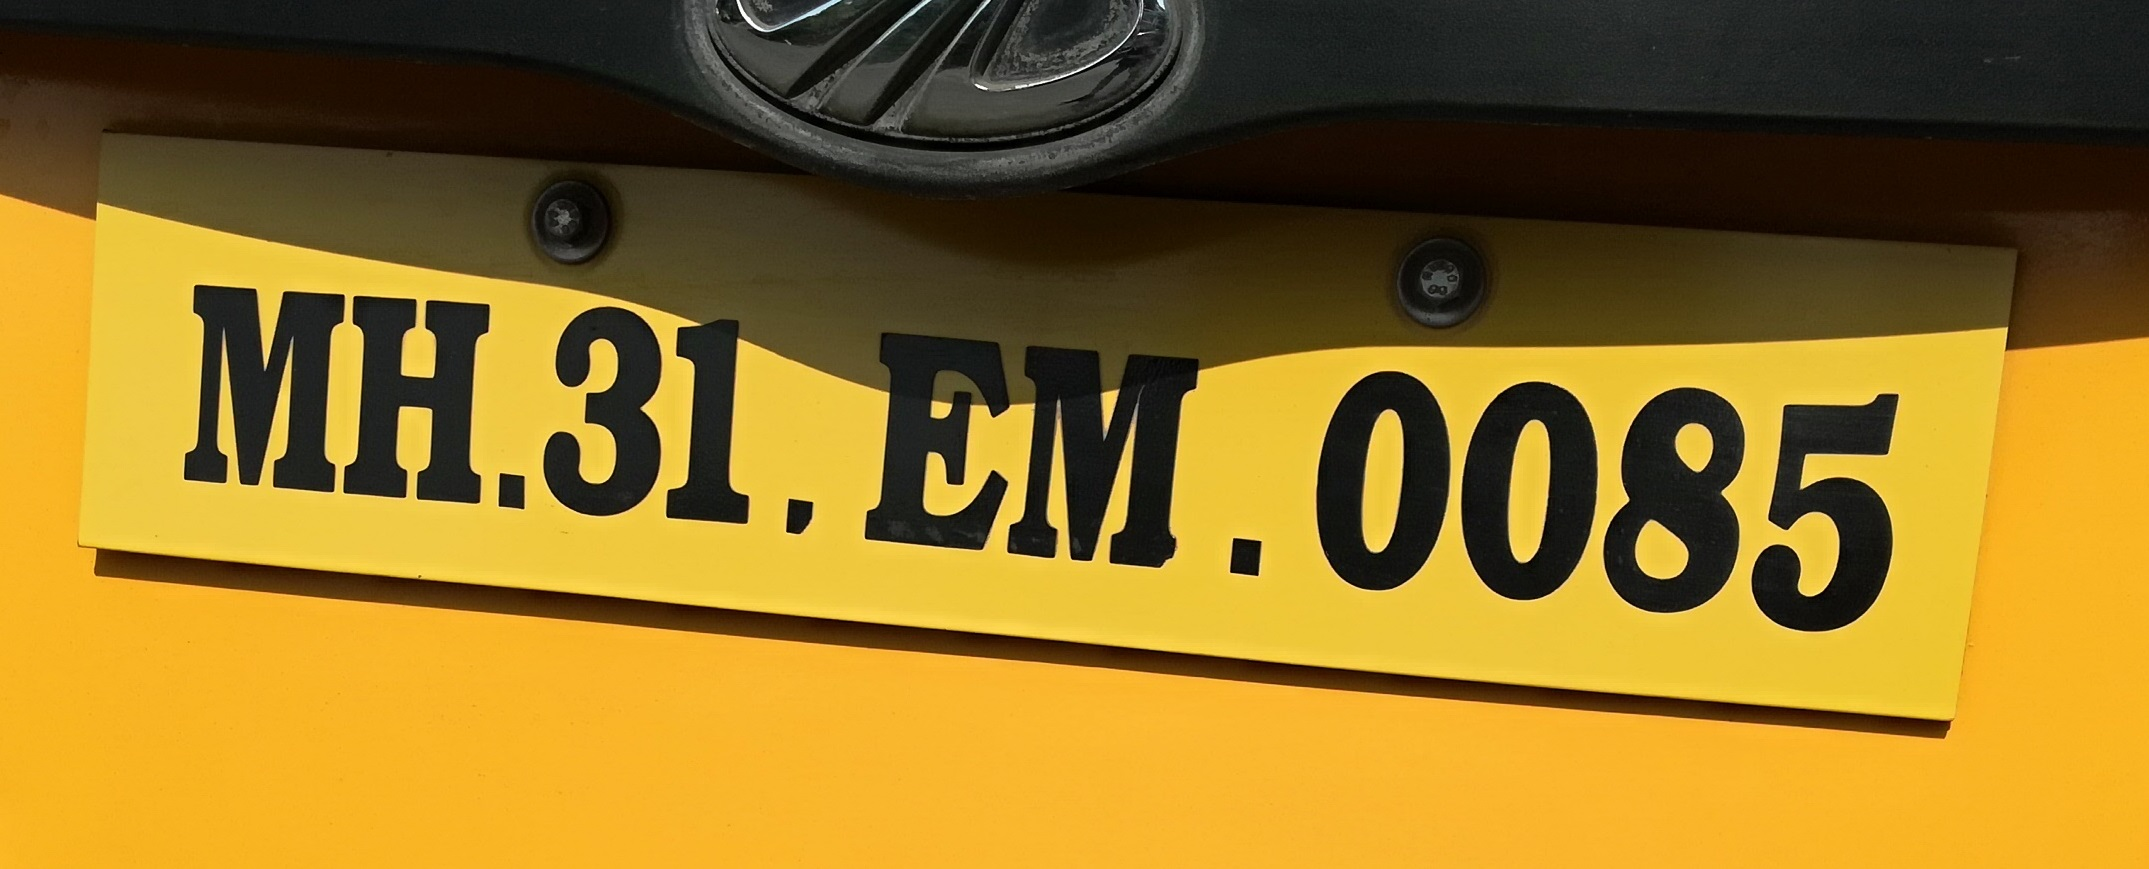numberplate: (74, 122, 2025, 737)
